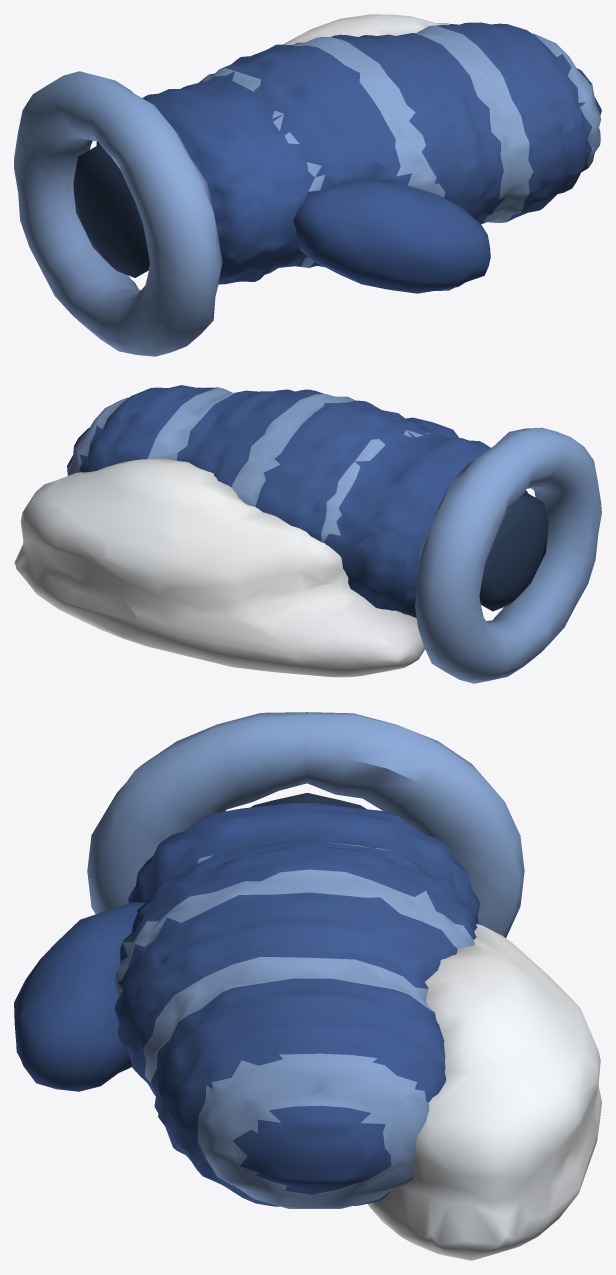
The model's file is frost_lost_mitten_b.glb.
The picture shows the model from 3 angles, top to bottom: view 1: azimuth 30°, elevation 25°; view 2: azimuth 150°, elevation 25°; view 3: azimuth 270°, elevation 25°; orthographic projection. The views are drawn at different scales.
Visible parts, largest first — view 1: frost_lost_mitten_b; view 2: frost_lost_mitten_b; view 3: frost_lost_mitten_b.
Part boxes in pixels (x1,y1,x2,y2): frost_lost_mitten_b: [14, 14, 601, 356]; frost_lost_mitten_b: [14, 385, 601, 683]; frost_lost_mitten_b: [14, 712, 601, 1260].
Bounding box in the file's own units: 7.21 × 3.39 × 5.81.
